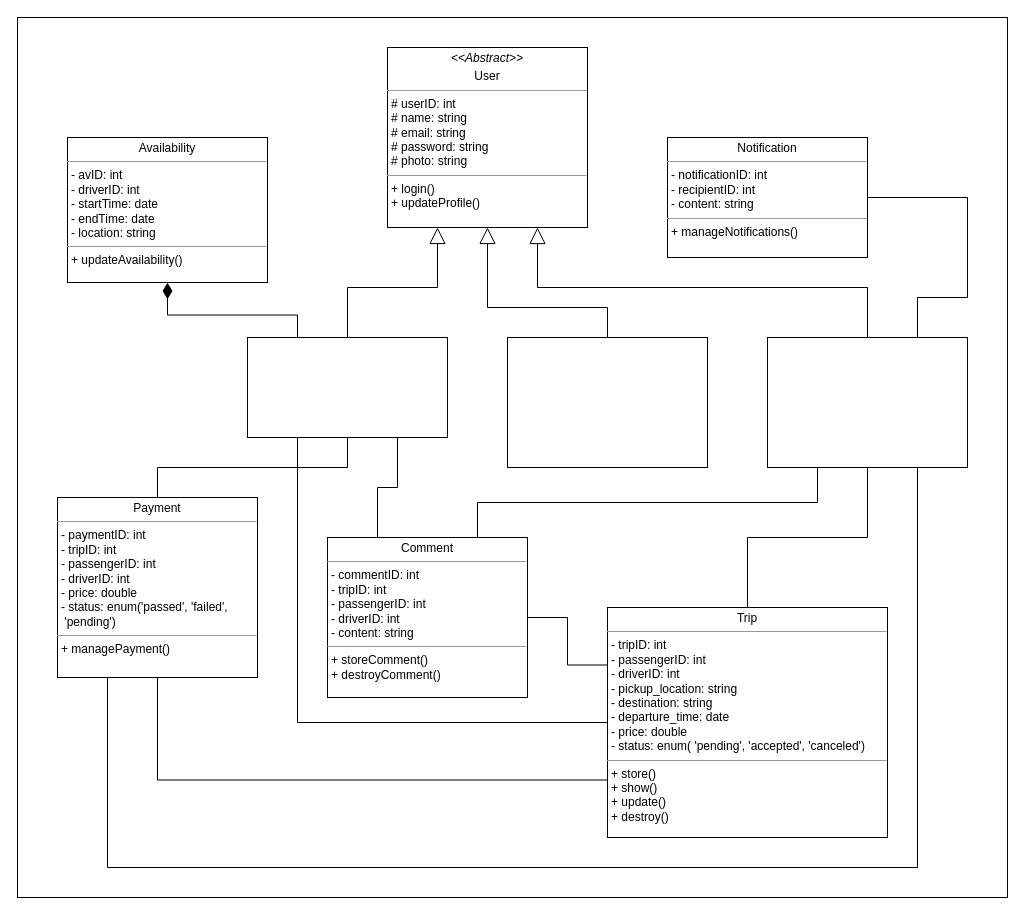
This 1025x915 diagram has some shape labels left out. Each missing label, with the box of its shape:
Admin + manageUsers() + getStats(): (506, 336, 708, 468)
Driver + manageReservations() + viewHistory(): (246, 336, 448, 438)
Passenger + bookTrip() + viewHistory() + cancelReservation() + filterDrivers(): (766, 336, 968, 468)
